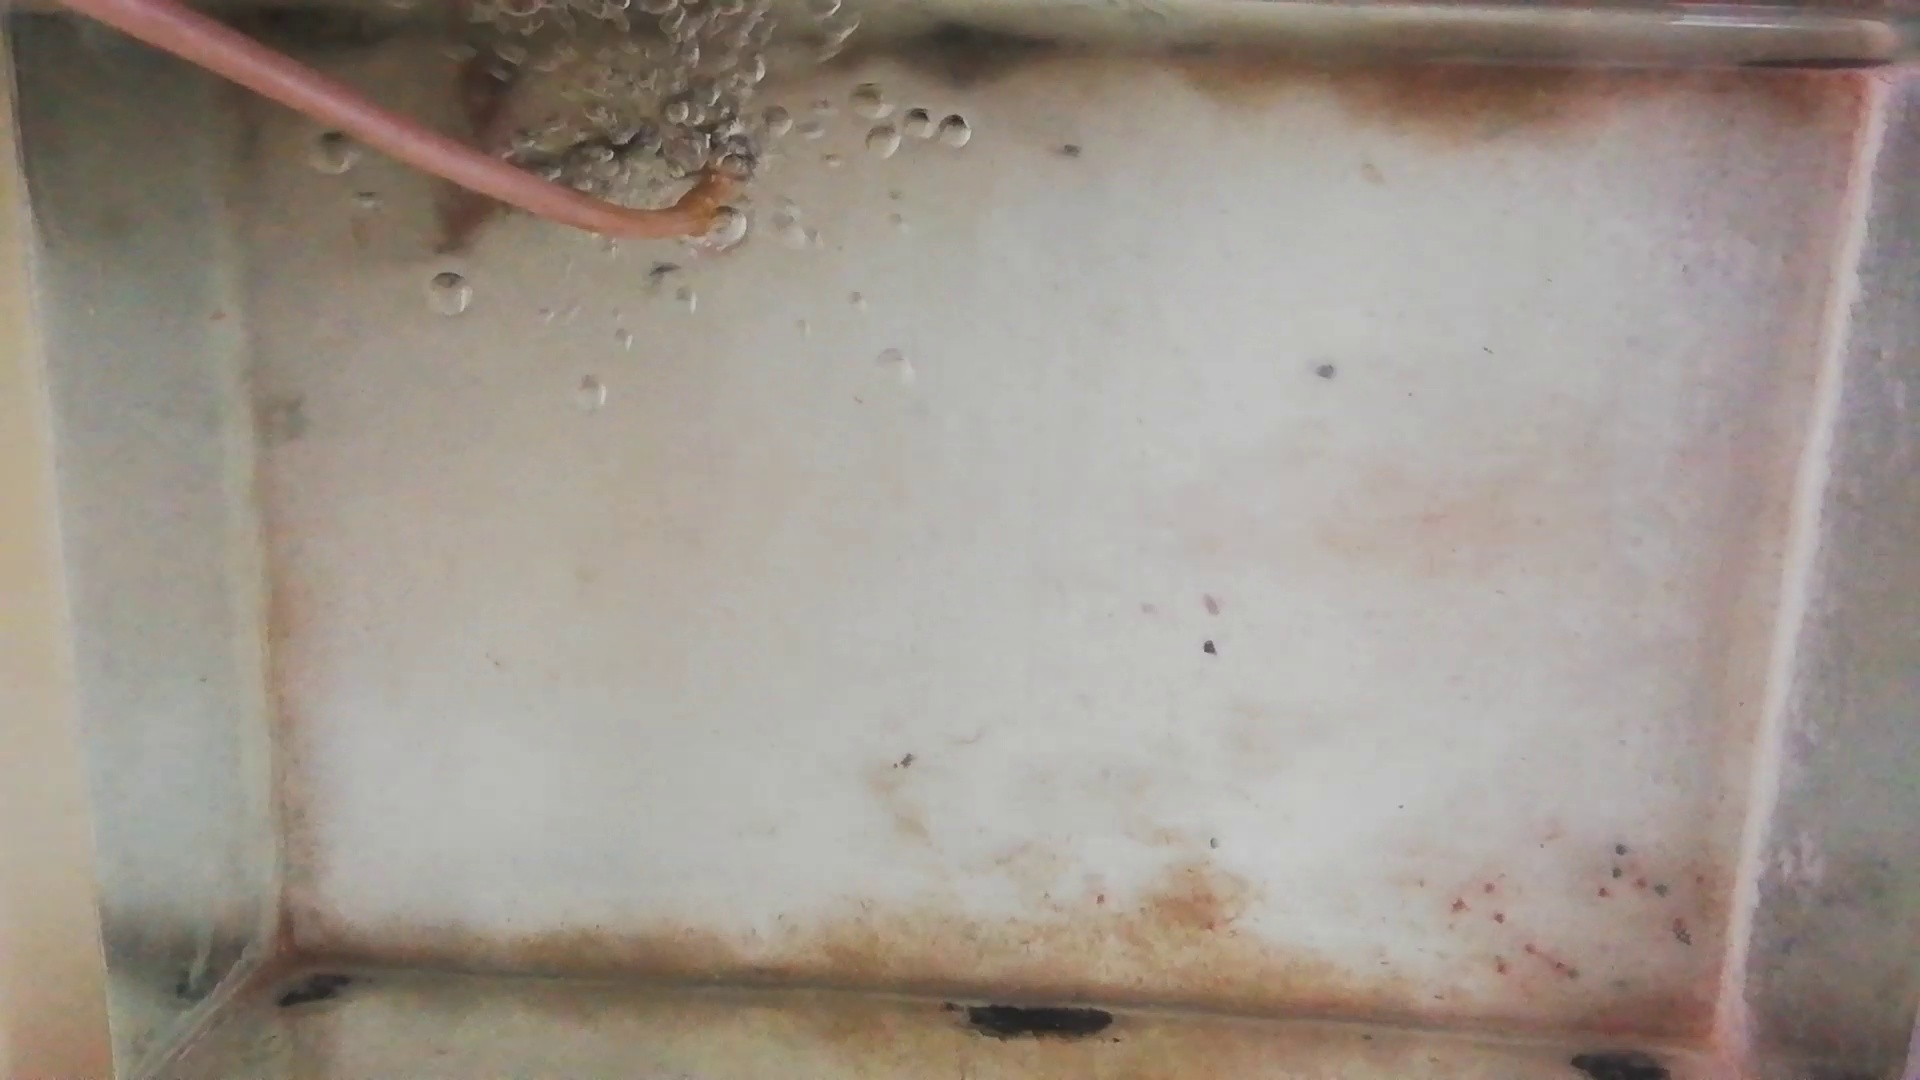fish: (451, 135, 646, 222), (430, 34, 514, 141)
